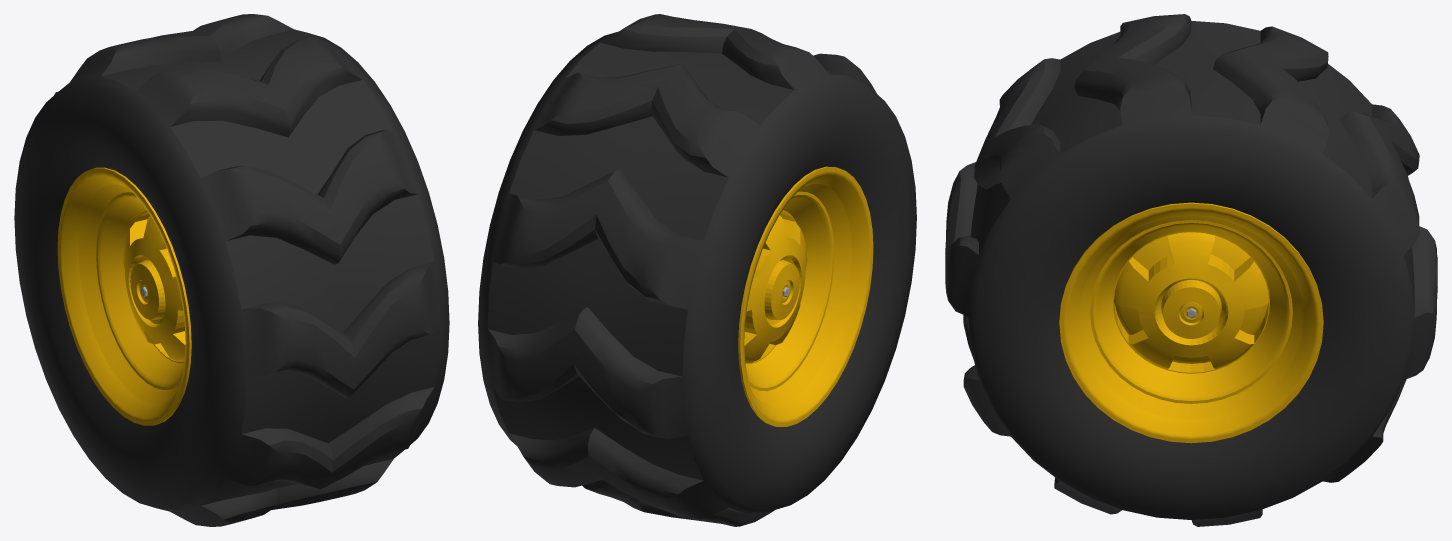
File: Wheel.fbx
The picture shows the model from 3 angles, left to right: view 1: azimuth 30°, elevation 25°; view 2: azimuth 150°, elevation 25°; view 3: azimuth 270°, elevation 25°; orthographic projection.
Visible parts, largest first — view 1: Wheel; view 2: Wheel; view 3: Wheel.
Part boxes in pixels (x1,y1,x2,y2): Wheel: (14,14,449,526); Wheel: (478,14,916,526); Wheel: (945,14,1437,526).
Bounding box in the file's own units: 1.2 × 2.2 × 2.21.
